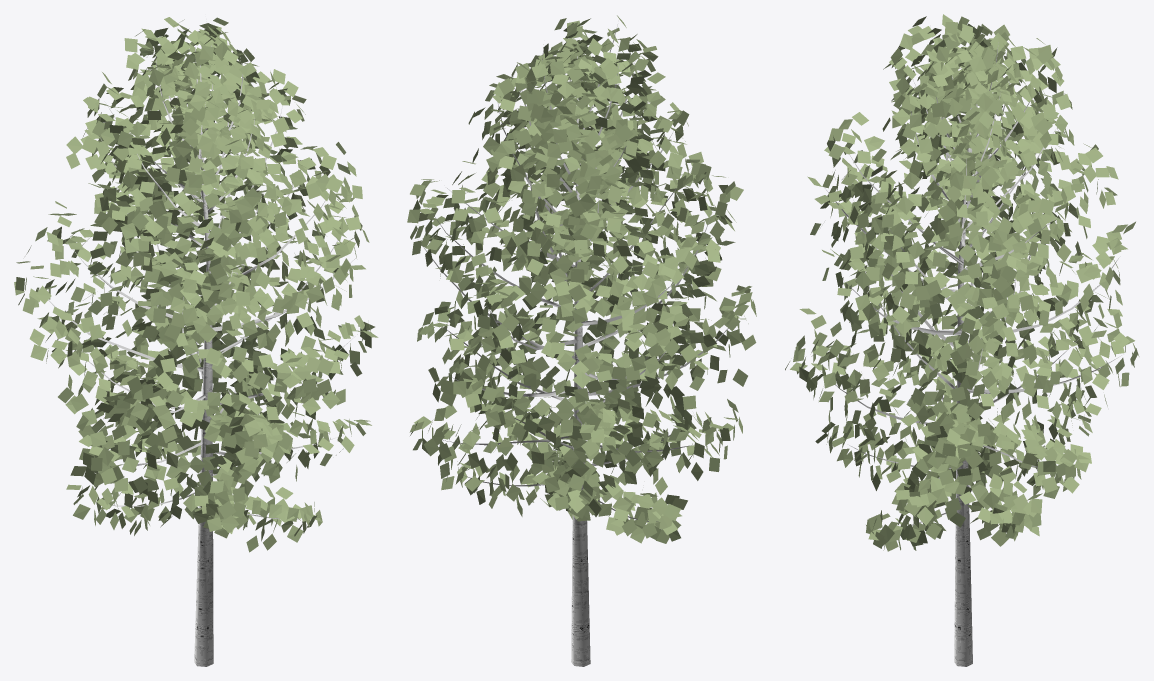
Rendered from birch.dae.
The picture shows the model from 3 angles, left to right: view 1: azimuth 30°, elevation 25°; view 2: azimuth 150°, elevation 25°; view 3: azimuth 270°, elevation 25°; orthographic projection.
Visible parts, largest first — view 1: birch; view 2: birch; view 3: birch.
Boxes of the visible parts, x1,y1,x2,y2 form: birch: (14,17,378,666); birch: (407,15,756,666); birch: (785,14,1139,666).
Bounding box in the file's own units: 4.2 × 4 × 8.
3 materials, 1 textured.
